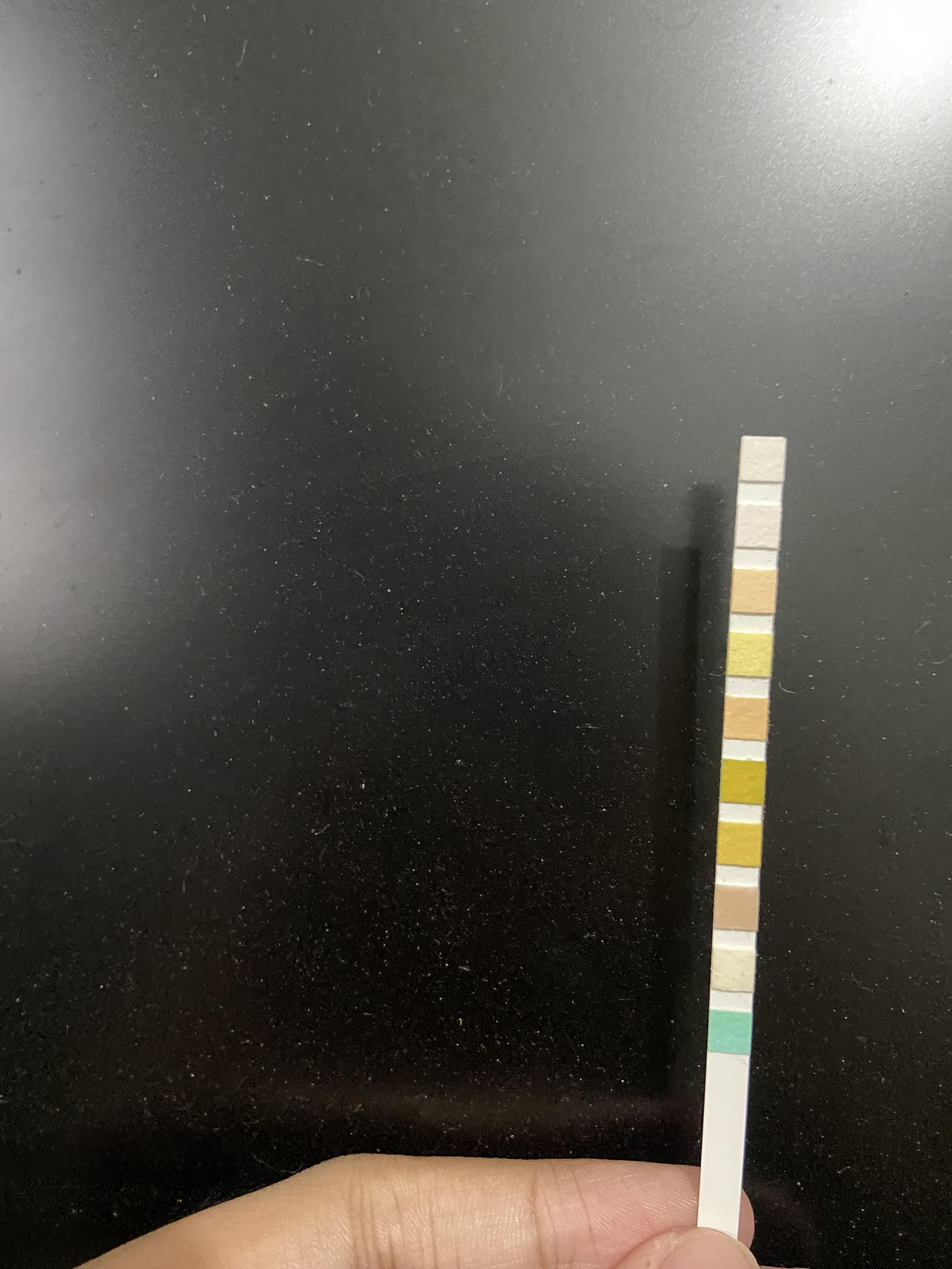Bilirubin: (712, 950, 754, 989)
Blood: (721, 761, 765, 802)
Glucose: (709, 1012, 751, 1052)
Ketone: (714, 886, 758, 928)
Leukocytes: (741, 437, 783, 481)
Nitrite: (736, 505, 778, 547)
Protein: (728, 634, 771, 675)
SpGravity: (717, 823, 761, 864)
Urobilinogen: (732, 570, 774, 612)
pH: (725, 698, 767, 739)
strip: (697, 436, 789, 1190)
